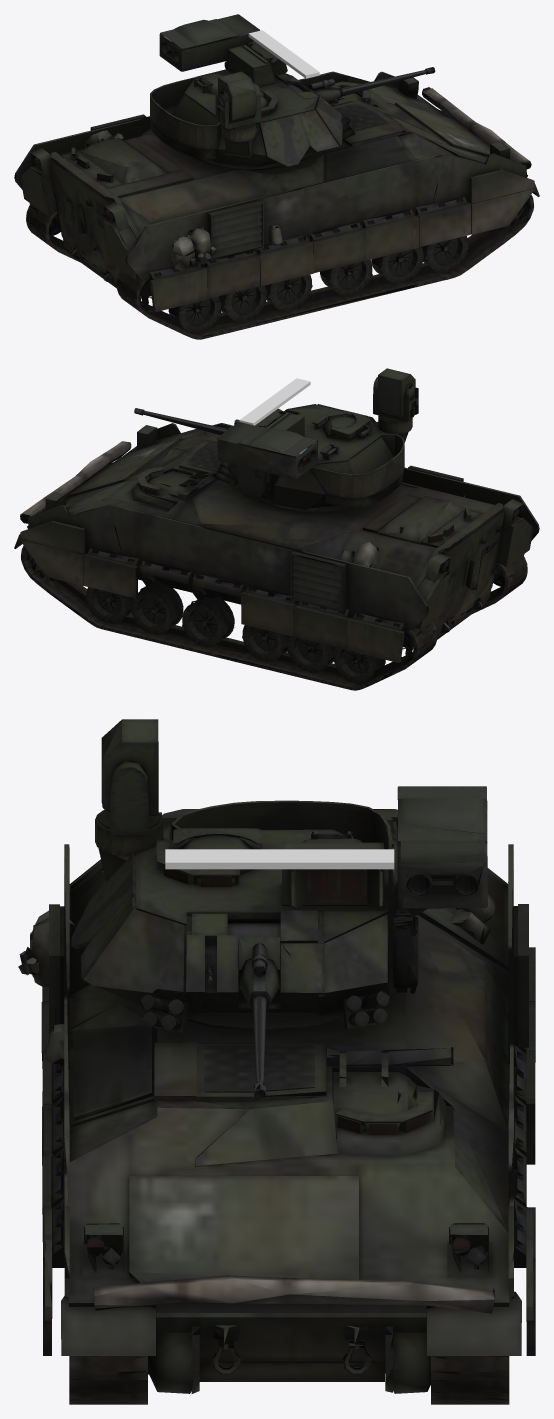
Rendered from bradley.glb.
3 renders of one model, top to bottom at view 1: azimuth 30°, elevation 25°; view 2: azimuth 150°, elevation 25°; view 3: azimuth 270°, elevation 25°, orthographic. The views are drawn at different scales.
Parts seen in each view (by area): view 1: g_bradley_hull, g_bradley_turret, g_bradley_gun; view 2: g_bradley_hull, g_bradley_turret, g_bradley_gun; view 3: g_bradley_hull, g_bradley_turret, g_bradley_gun.
Part boxes in pixels (bbox=[...]): g_bradley_hull: bbox=[14, 71, 539, 339]; g_bradley_turret: bbox=[150, 14, 435, 170]; g_bradley_gun: bbox=[341, 70, 426, 96]; g_bradley_hull: bbox=[14, 423, 539, 690]; g_bradley_turret: bbox=[134, 368, 418, 512]; g_bradley_gun: bbox=[142, 410, 227, 435]; g_bradley_hull: bbox=[18, 809, 535, 1404]; g_bradley_turret: bbox=[71, 719, 487, 1100]; g_bradley_gun: bbox=[251, 992, 267, 1082].
Bounding box in the file's own units: 6.55 × 3.59 × 3.56.
4 materials, 3 textured.
